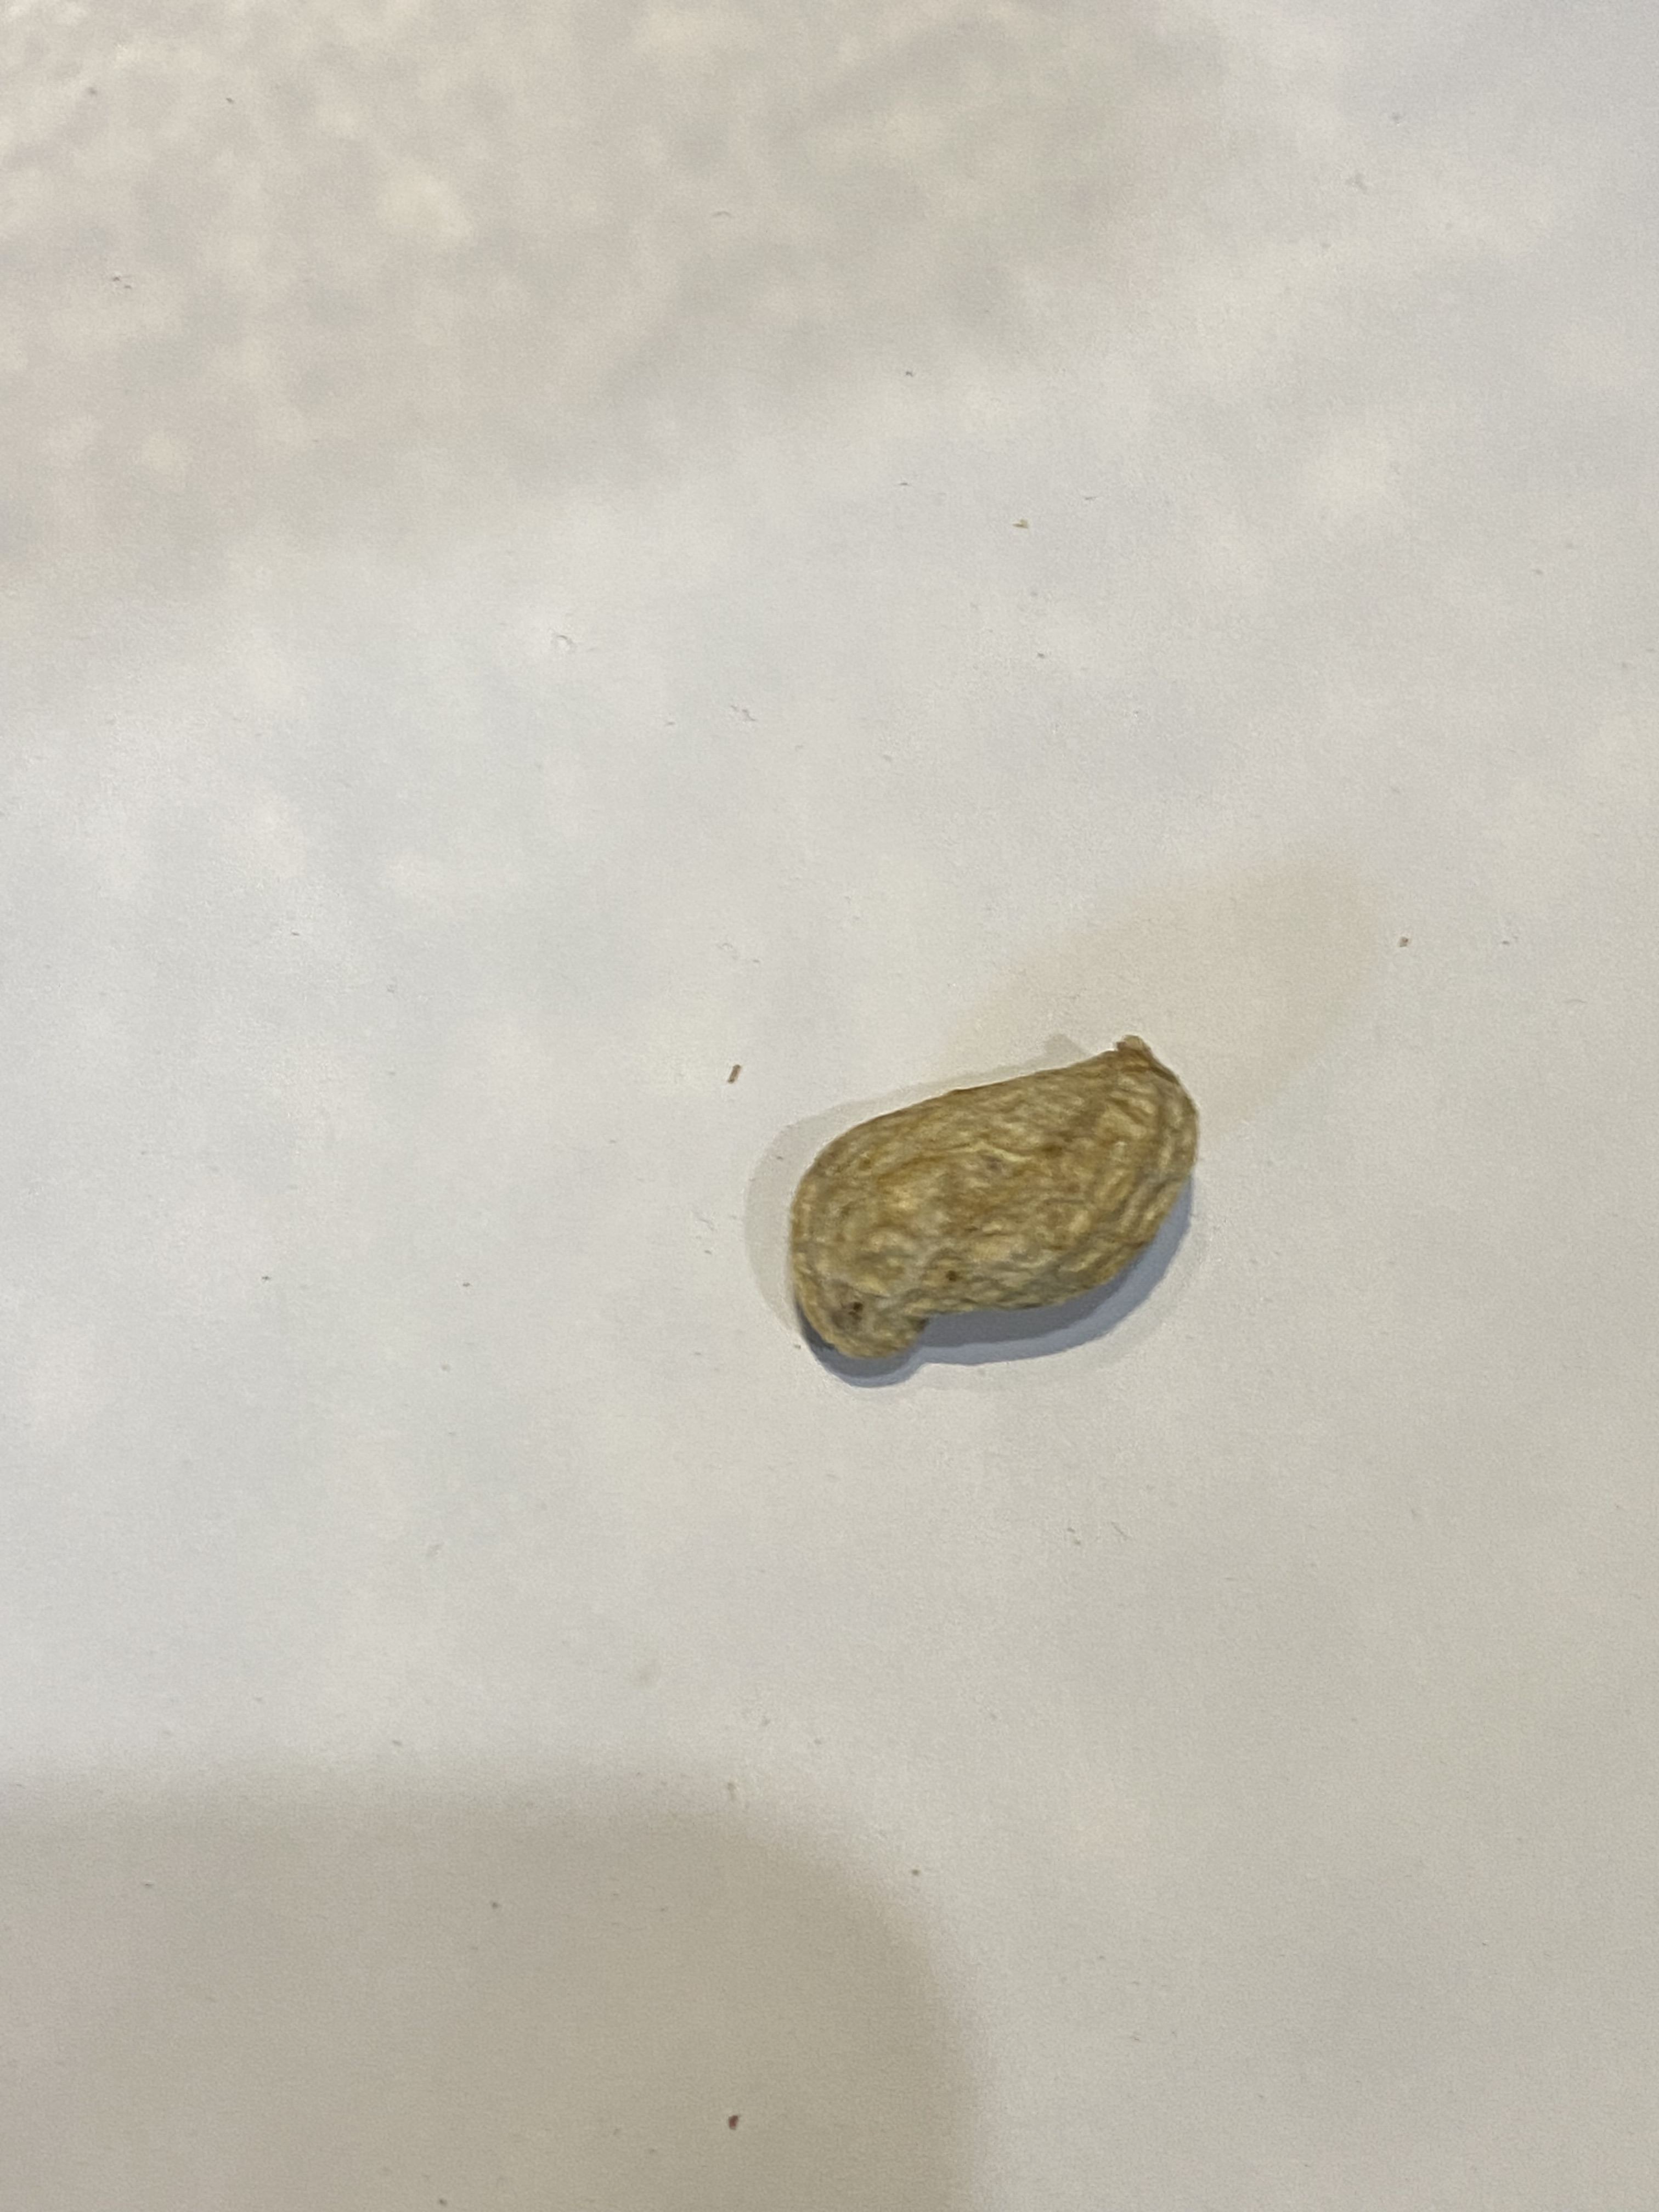kacang1: (746, 1000, 1239, 1378)
